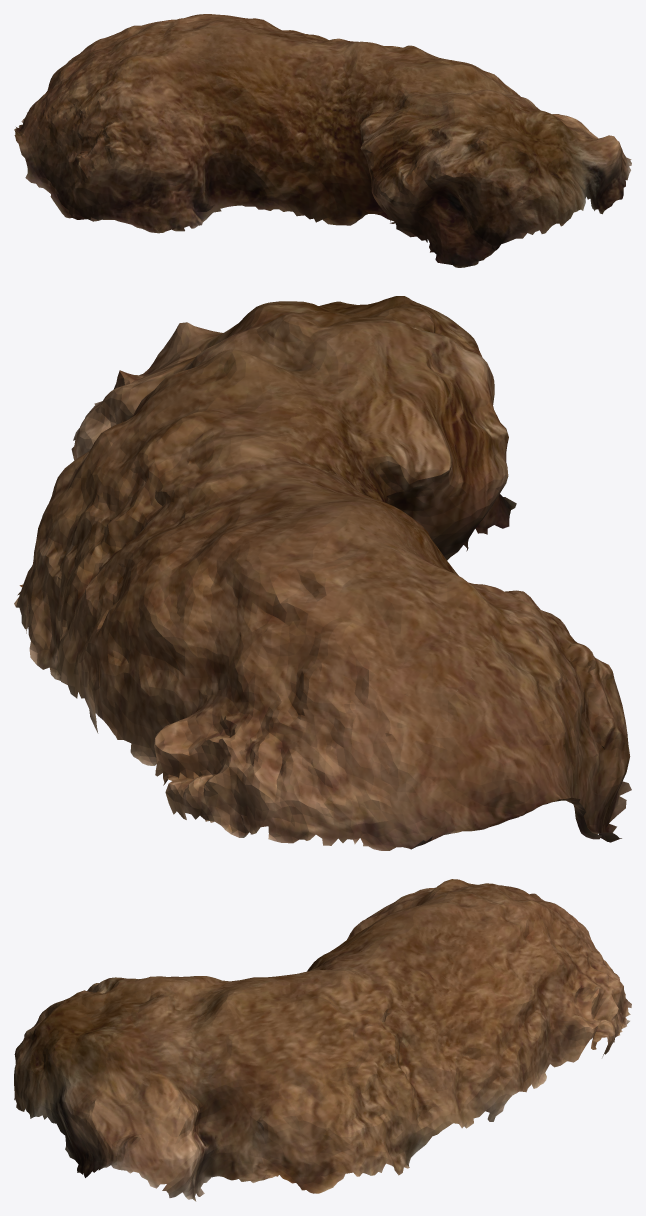
Rendered from Dogmodel.fbx.
3 renders of one model, top to bottom at view 1: azimuth 30°, elevation 25°; view 2: azimuth 150°, elevation 25°; view 3: azimuth 270°, elevation 25°, orthographic. The views are drawn at different scales.
Visible parts, largest first — view 1: Mesh_0; view 2: Mesh_0; view 3: Mesh_0.
Part boxes in pixels (box(x1,y1,x2,y2)): Mesh_0: box(14, 14, 631, 267); Mesh_0: box(14, 296, 631, 850); Mesh_0: box(14, 879, 631, 1201).
Bounding box in the file's own units: 340 × 109 × 354.
